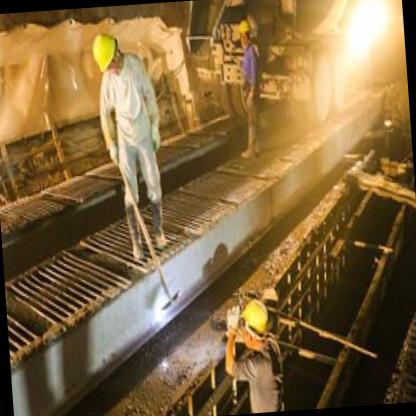bee: (87, 26, 124, 84), (238, 296, 274, 354), (235, 16, 252, 48)
